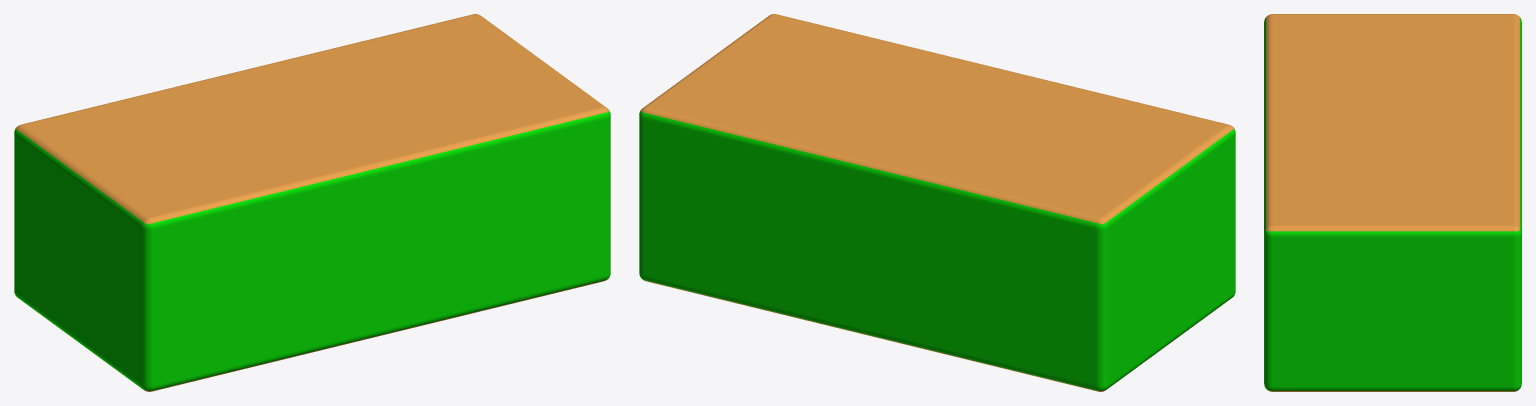
File: Money-Pile_03.fbx
3 renders of one model, left to right at view 1: azimuth 30°, elevation 25°; view 2: azimuth 150°, elevation 25°; view 3: azimuth 270°, elevation 25°, orthographic. The views are drawn at different scales.
Parts seen in each view (by area): view 1: Money-Pile.002; view 2: Money-Pile.002; view 3: Money-Pile.002.
Part boxes in pixels (x1,y1,x2,y2): Money-Pile.002: (14, 14, 610, 391); Money-Pile.002: (639, 14, 1235, 391); Money-Pile.002: (1264, 14, 1521, 391).
Bounding box in the file's own units: 300 × 106 × 150.
